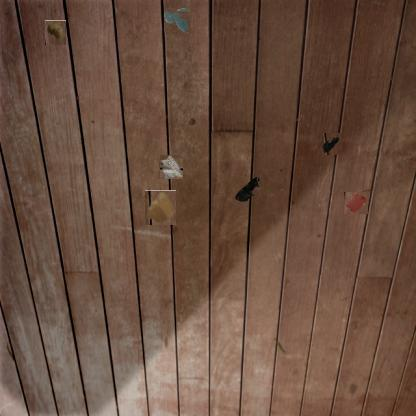dirty: (144, 190, 176, 225), (234, 174, 262, 204), (159, 155, 183, 179), (44, 20, 66, 45), (322, 133, 342, 155)
liquid: (165, 9, 189, 33), (344, 192, 368, 214)
